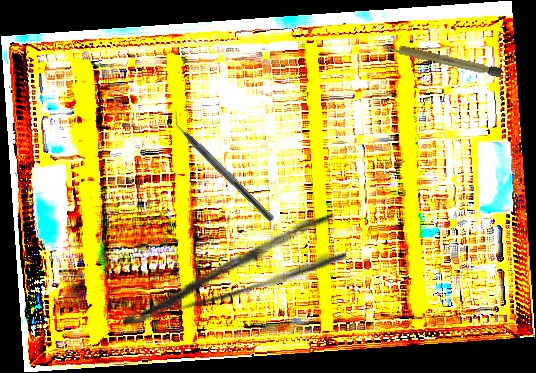Chopper: (163, 107, 283, 224)
Dressing Forceps: (110, 212, 349, 331)
Scalpel Handle: (380, 40, 504, 78)
